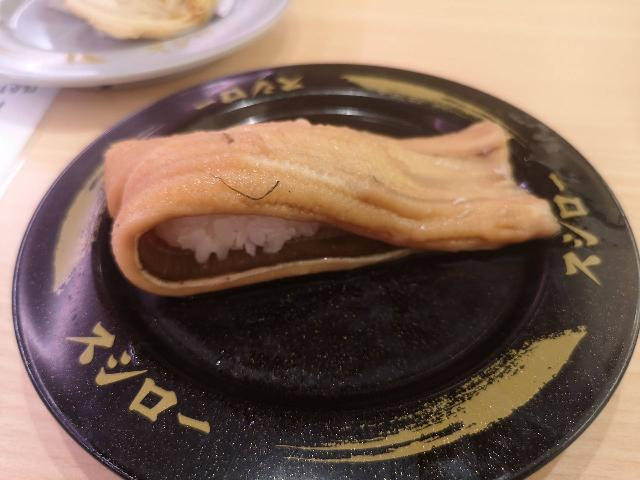janwhite: (42, 79, 574, 458), (0, 0, 261, 76)
